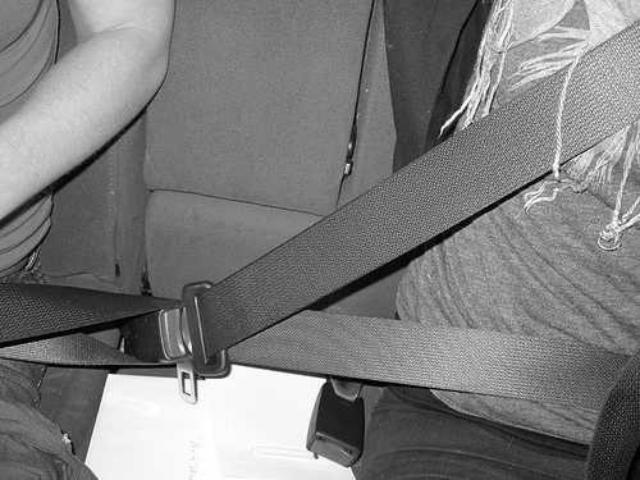Seatbelt: (186, 0, 640, 414)
